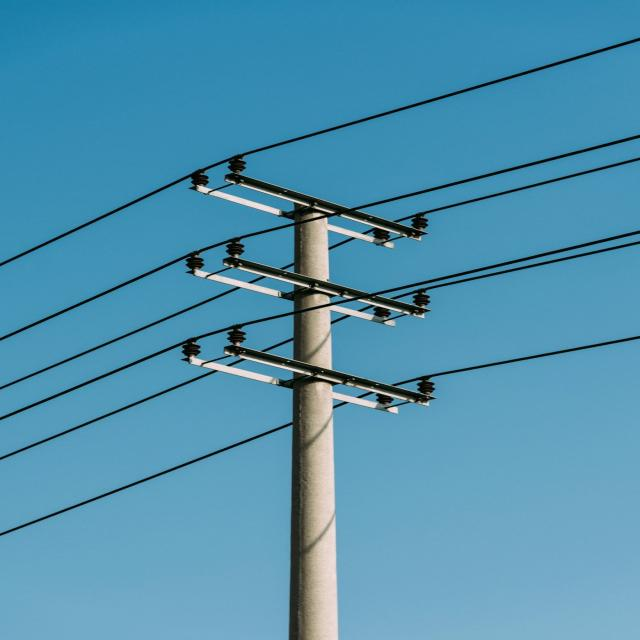transmission tower: (52, 114, 548, 566)
